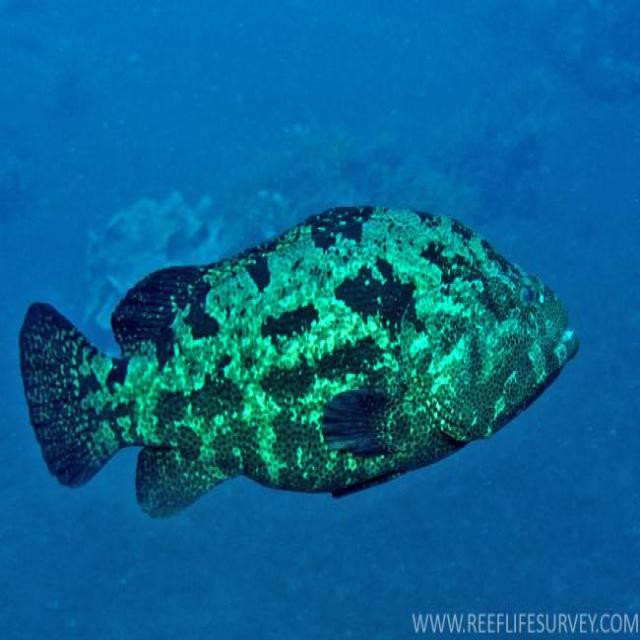ikan: (18, 201, 579, 519)
